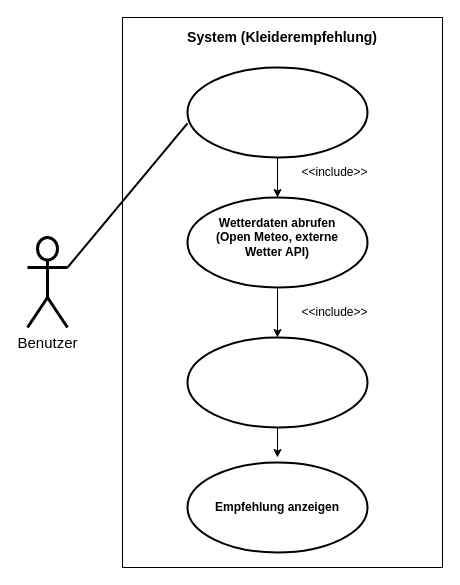
Some shapes in this 460 by 585 pixel diagram are drawn without their labels. Each missing label, with the centre of its shape:
I nformationen eingeben (Stadt, Uhr, Zeit): [277,112]
Kleidungsempfehlung generieren: [277,382]
